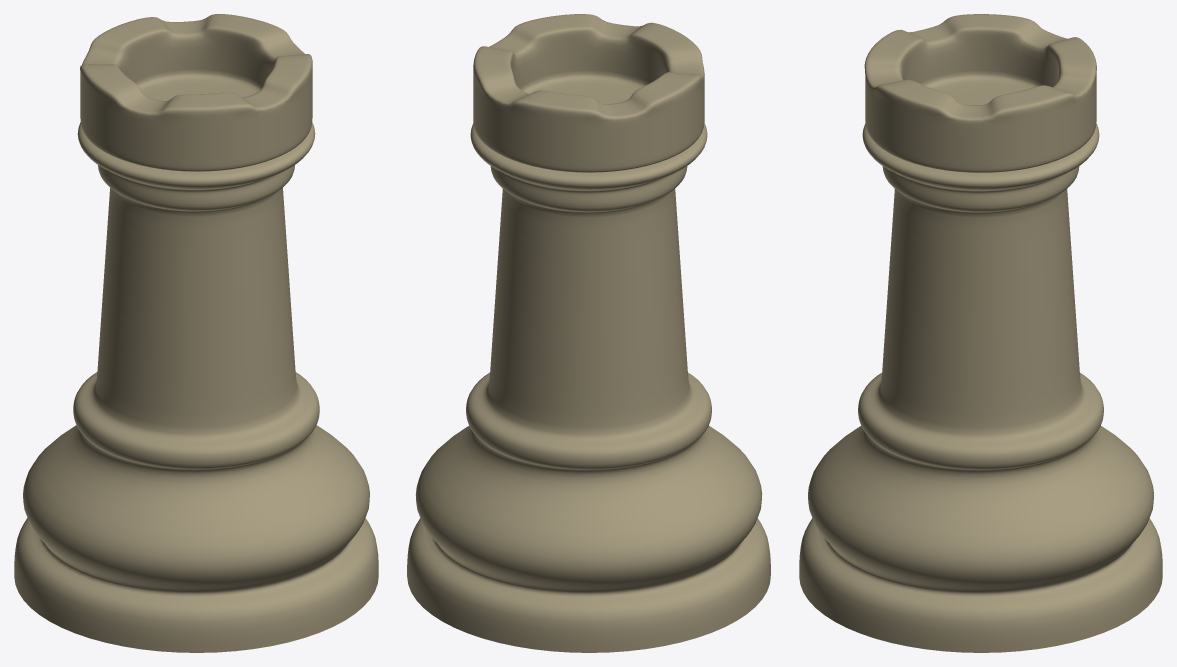
The model's file is rook.obj.
3 views of the same model, side by side, from view 1: azimuth 30°, elevation 25°; view 2: azimuth 150°, elevation 25°; view 3: azimuth 270°, elevation 25° (orthographic).
Visible parts, largest first — view 1: Circle.007; view 2: Circle.007; view 3: Circle.007.
Boxes of the visible parts, x1,y1,x2,y2 form: Circle.007: (14,14,378,652); Circle.007: (407,14,770,652); Circle.007: (799,14,1162,652).
Size of the model in its own units: 1.51 by 2.36 by 1.51.
